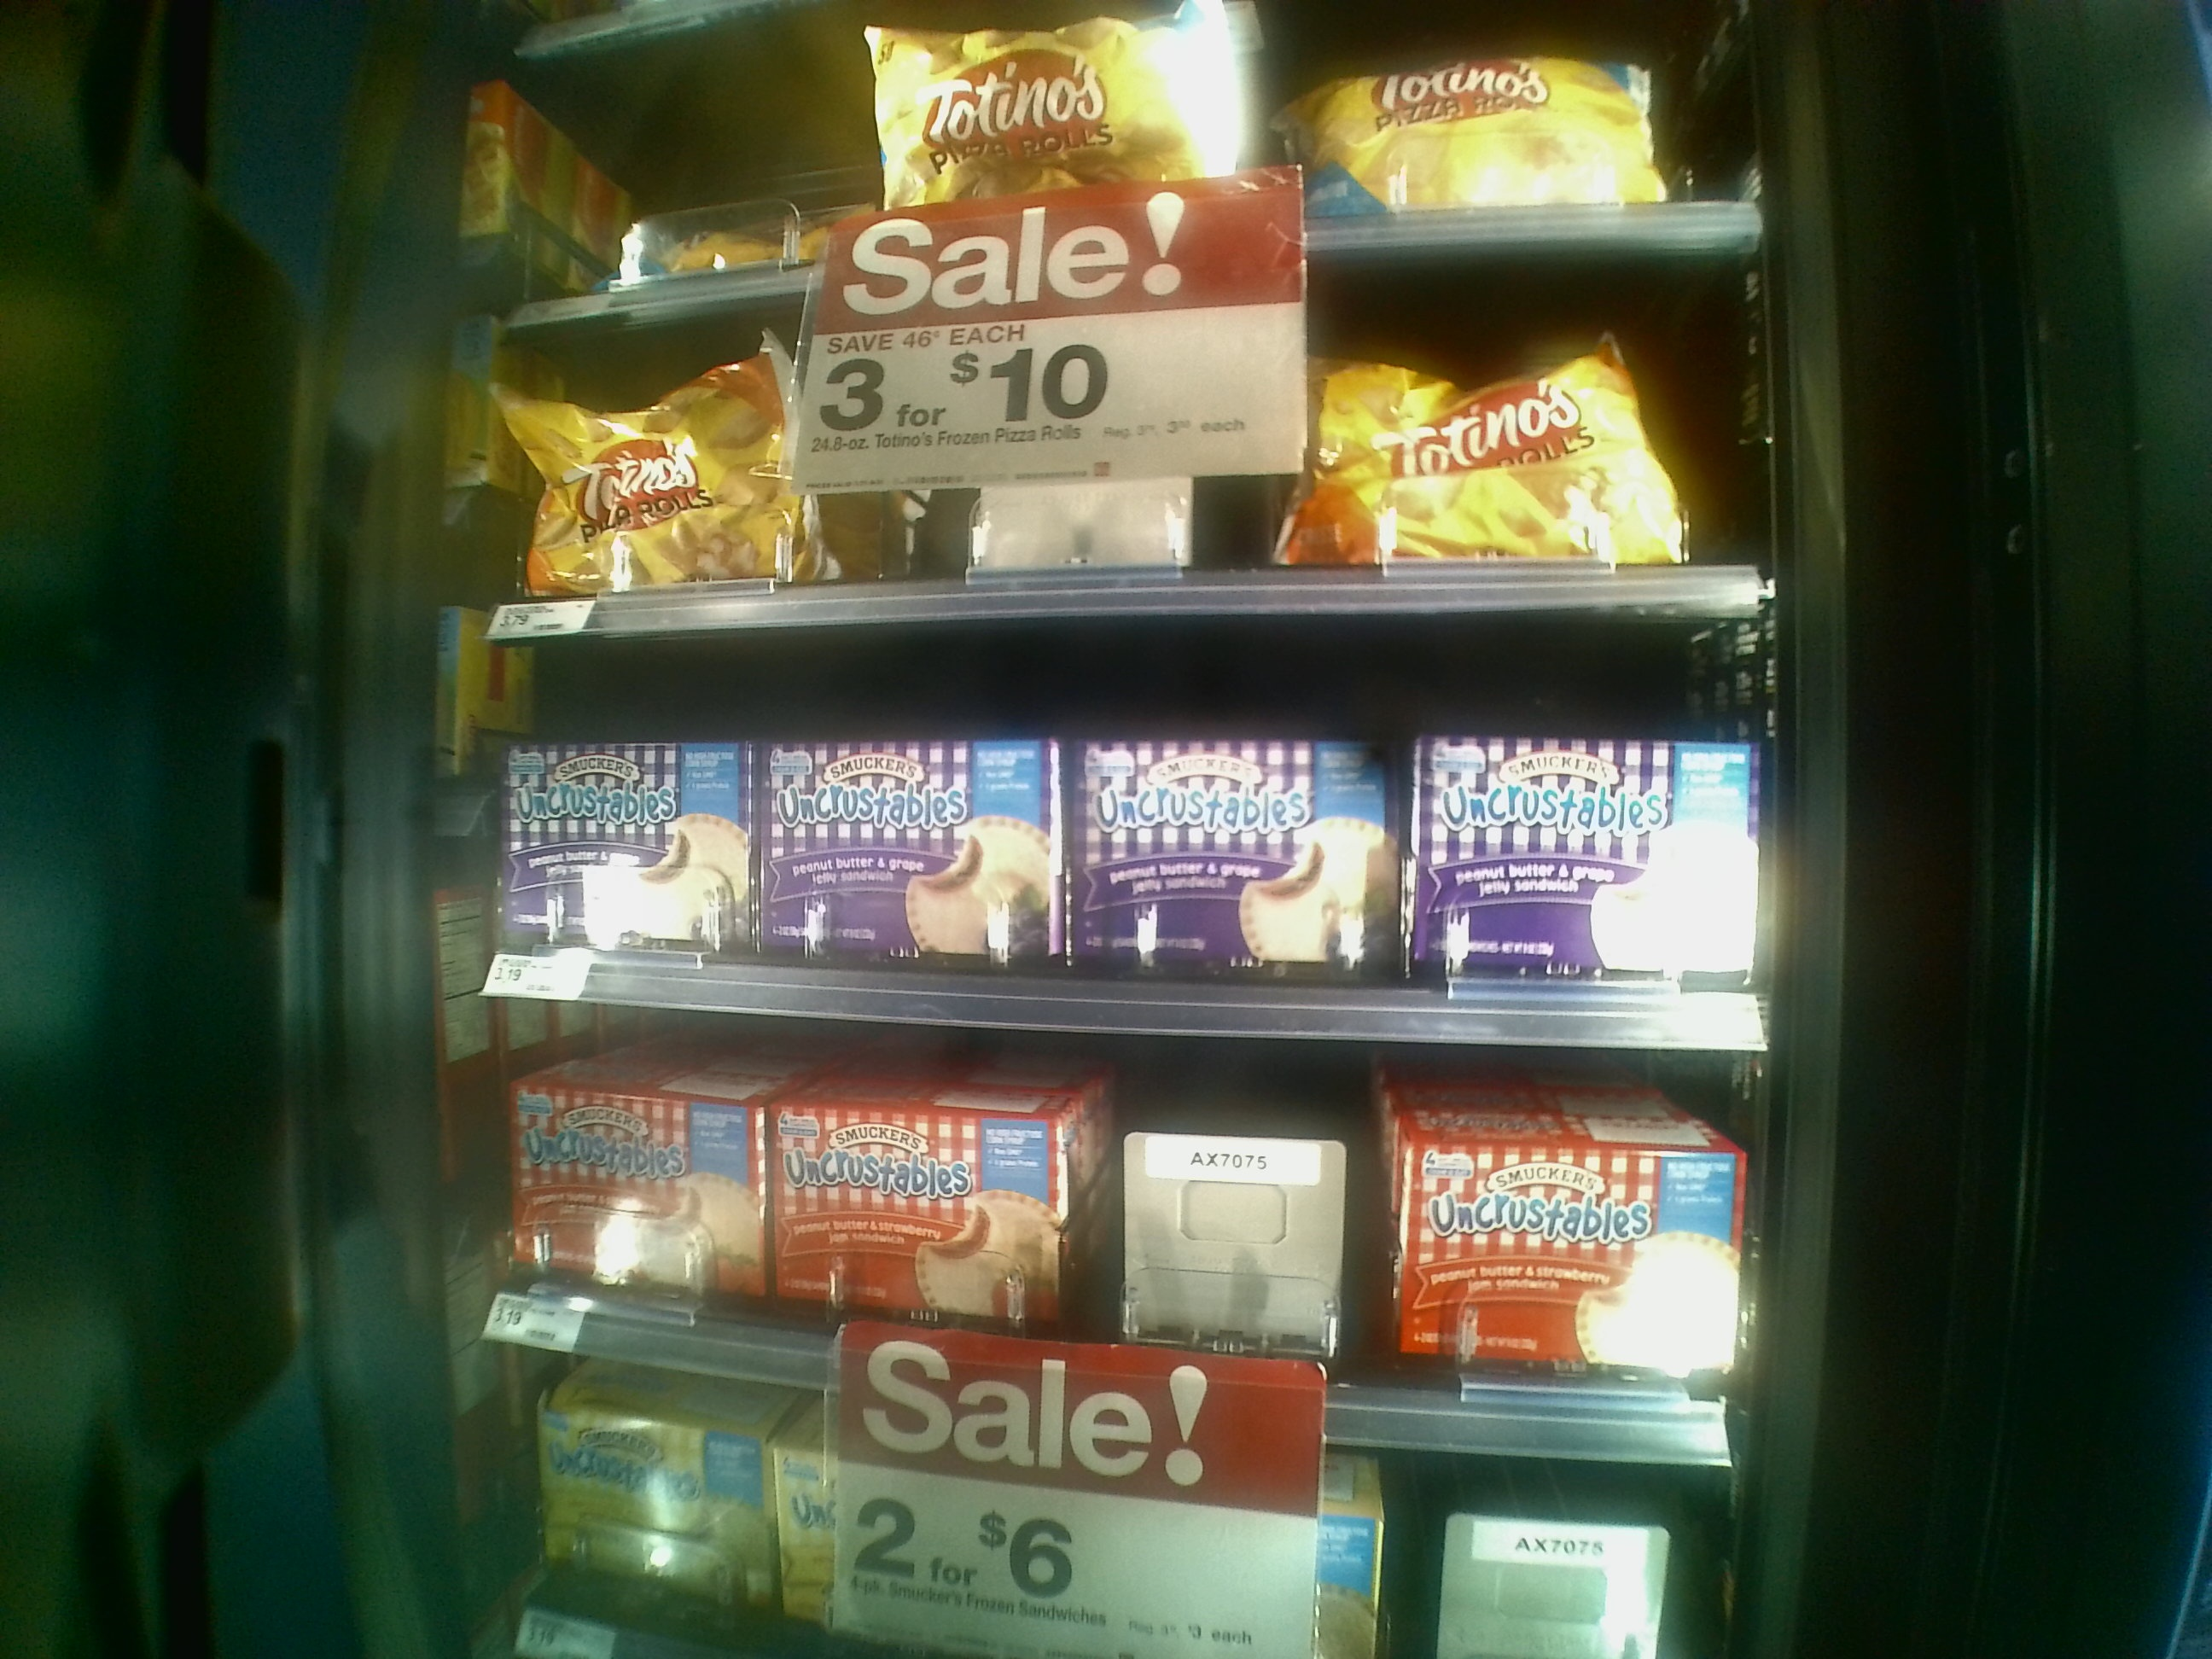shelf: (456, 1006, 1742, 1453), (420, 619, 1770, 1039), (469, 296, 1763, 613)
